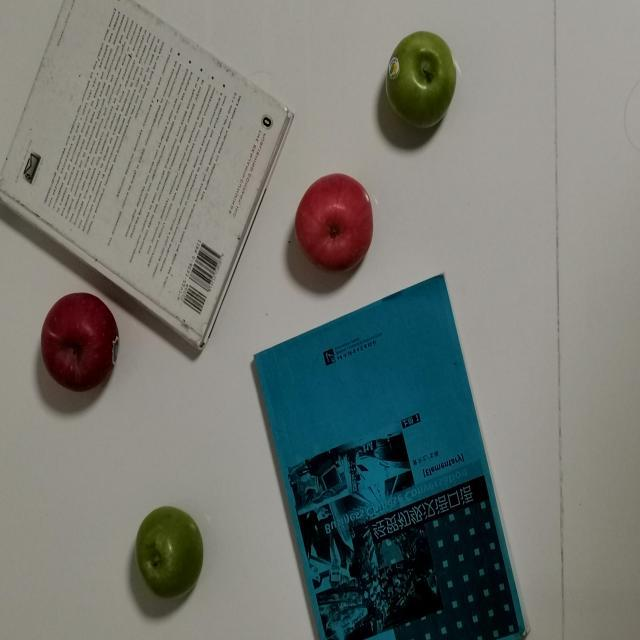Apple: (122, 499, 210, 619), (288, 164, 376, 284), (36, 282, 124, 402), (374, 24, 462, 144)
Book: (1, 0, 298, 356), (248, 266, 526, 640)
